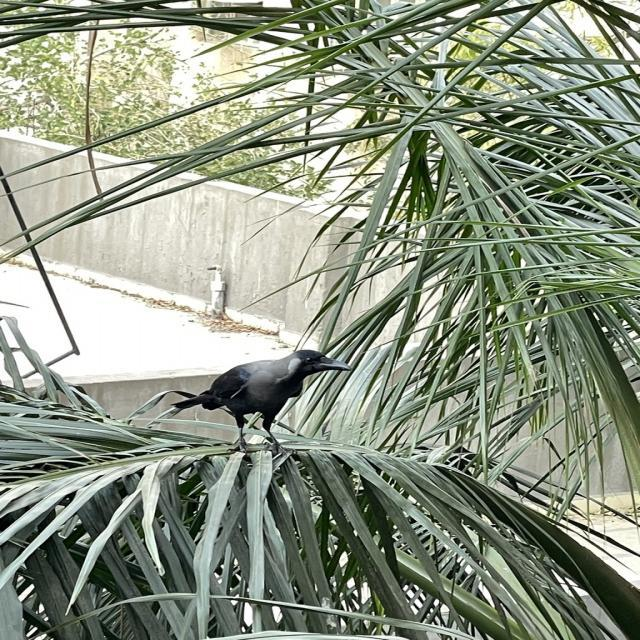bird: (165, 344, 361, 461)
